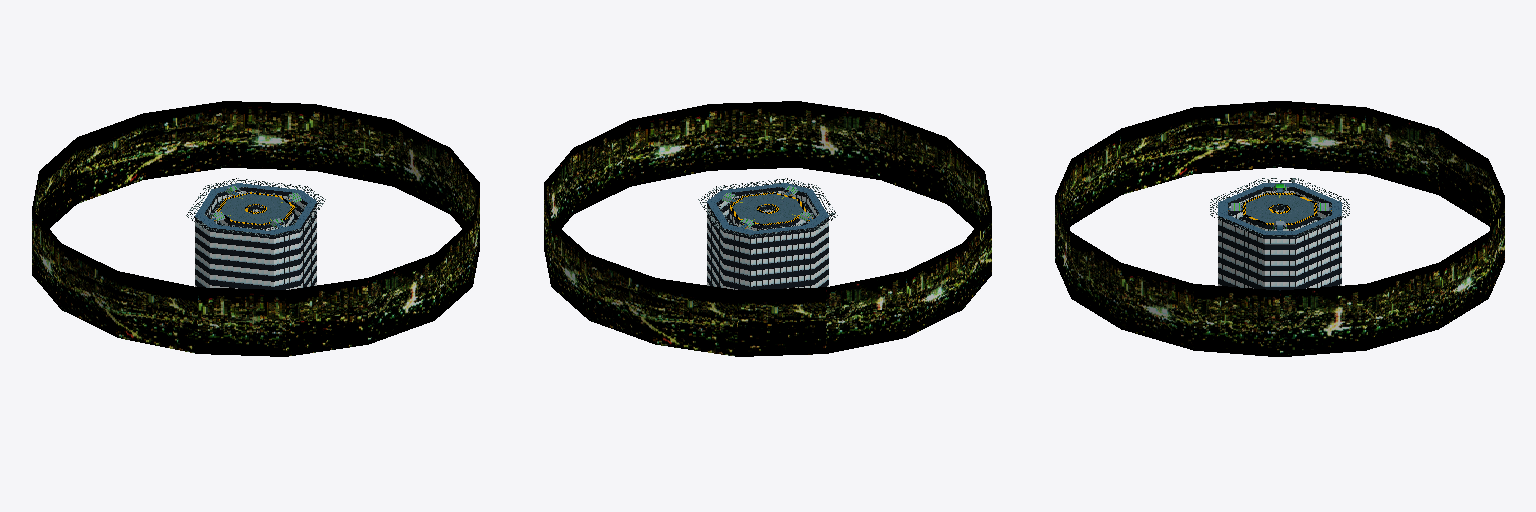
3 views of the same model, side by side, from view 1: azimuth 30°, elevation 25°; view 2: azimuth 150°, elevation 25°; view 3: azimuth 270°, elevation 25° (orthographic).
Bounding box in the file's own units: 30.6 × 9.07 × 30.6.
Materials: 37 (23 with a texture image).